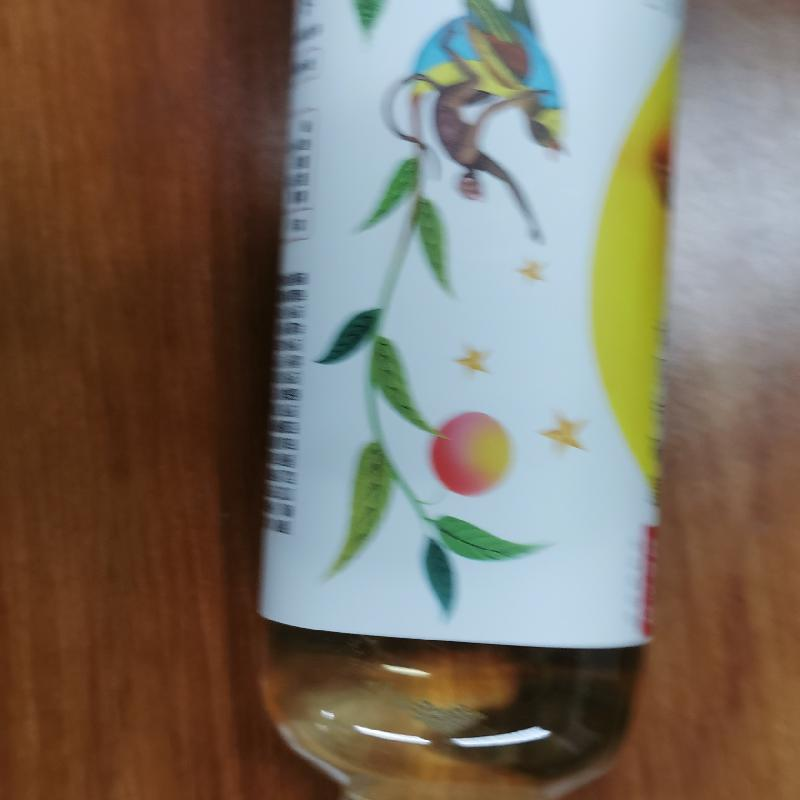bottles: (251, 0, 681, 799)
